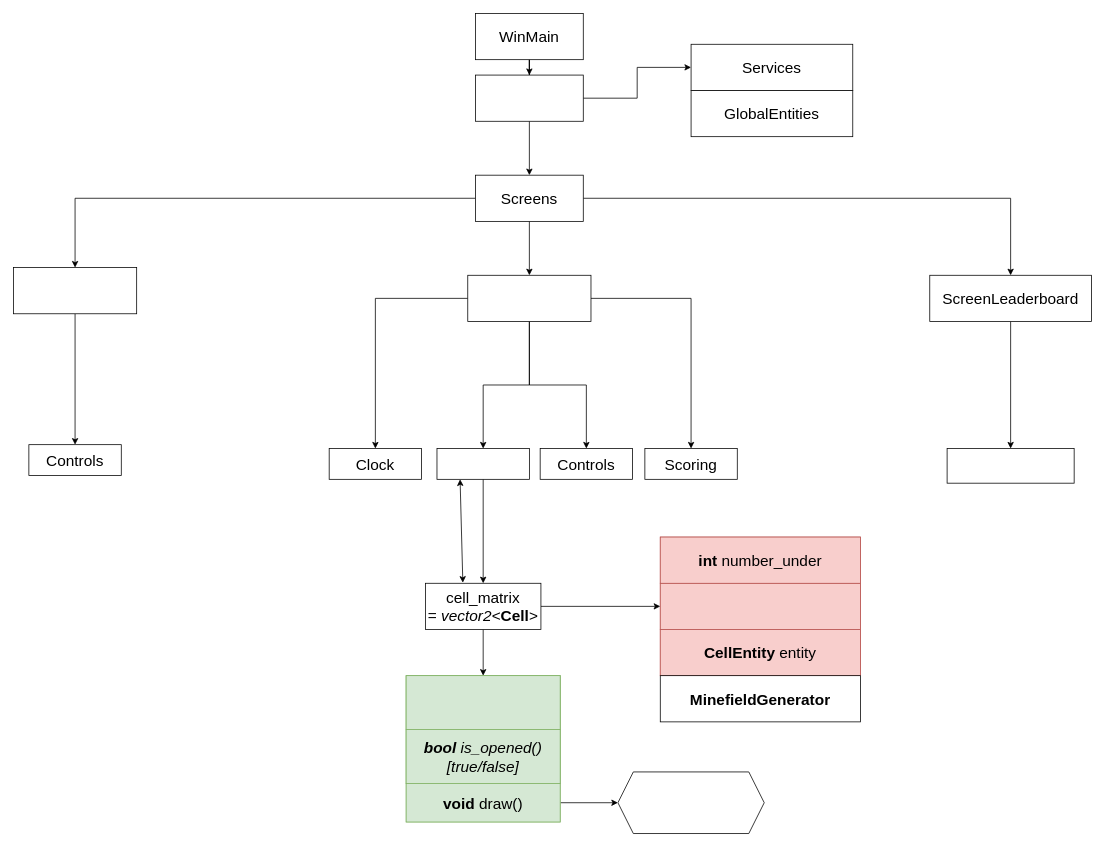
This 1105x847 diagram has some shape labels left out. Here are the shapes that lost their labels. From the top down, the centre of each, then its label:
(x=529, y=97): Application
(x=75, y=290): ScreenMenu
(x=529, y=298): ScreenGame
(x=482, y=463): Minefield
(x=1010, y=465): Leaderboard
(x=760, y=606): bool is_opened
(x=482, y=702): int number_under() [-1,0..8]
(x=690, y=802): inherits from sf::Drawables
